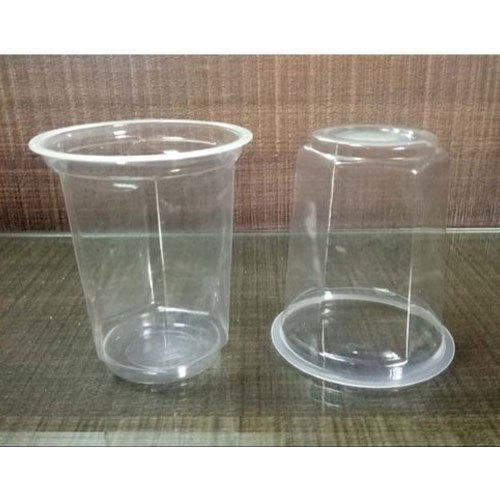cup-disposable: (29, 117, 253, 388), (272, 123, 453, 390)
